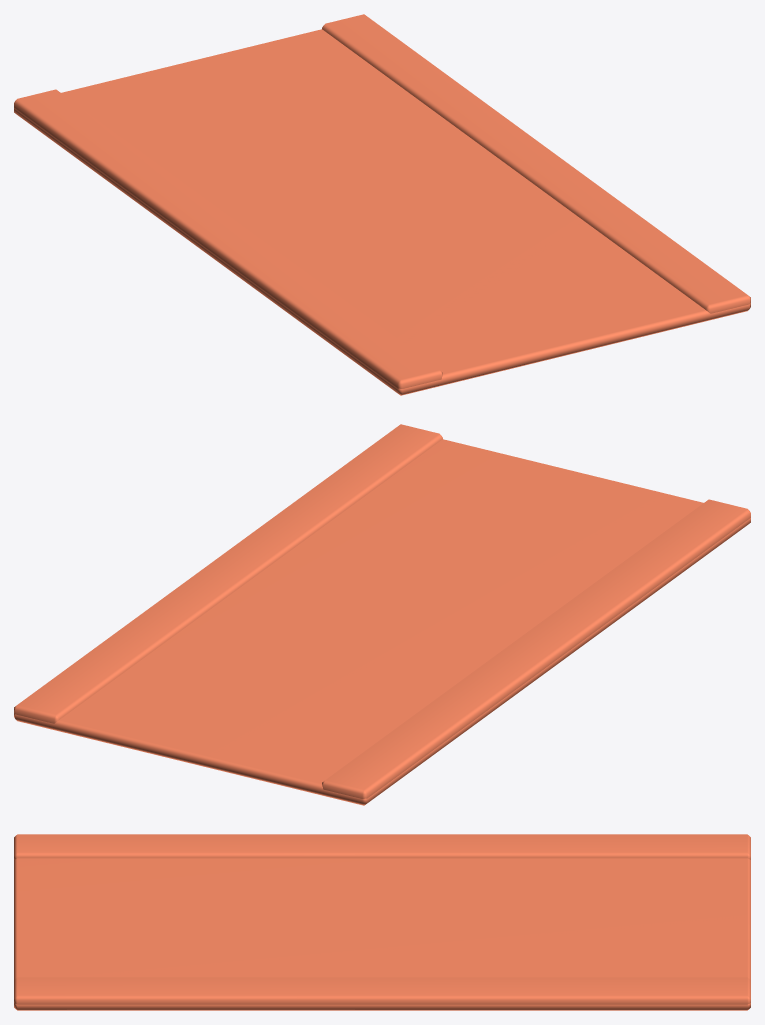
Rendered from Town_18_Road_1.glb.
3 renders of one model, top to bottom at view 1: azimuth 30°, elevation 25°; view 2: azimuth 150°, elevation 25°; view 3: azimuth 270°, elevation 25°, orthographic. The views are drawn at different scales.
Visible parts, largest first — view 1: Town_18_Road_1; view 2: Town_18_Road_1; view 3: Town_18_Road_1.
Boxes of the visible parts, x1=… form: Town_18_Road_1: x1=14, y1=14, x2=750, y2=395; Town_18_Road_1: x1=14, y1=424, x2=750, y2=805; Town_18_Road_1: x1=14, y1=834, x2=750, y2=1010.
Size of the model in its own units: 5.19 by 0.2266 by 9.85.
Materials: 1 (1 with a texture image).
